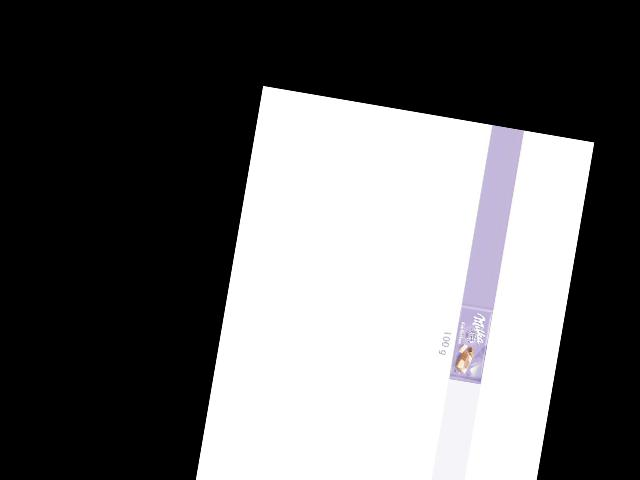chocolate: (447, 302, 493, 384)
